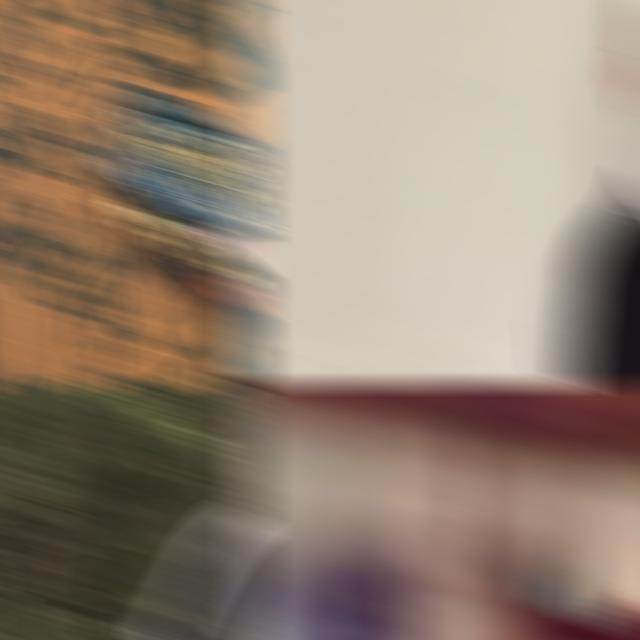Knife: (148, 508, 260, 640)
Knife_Handle: (238, 516, 640, 640), (533, 319, 597, 387)
